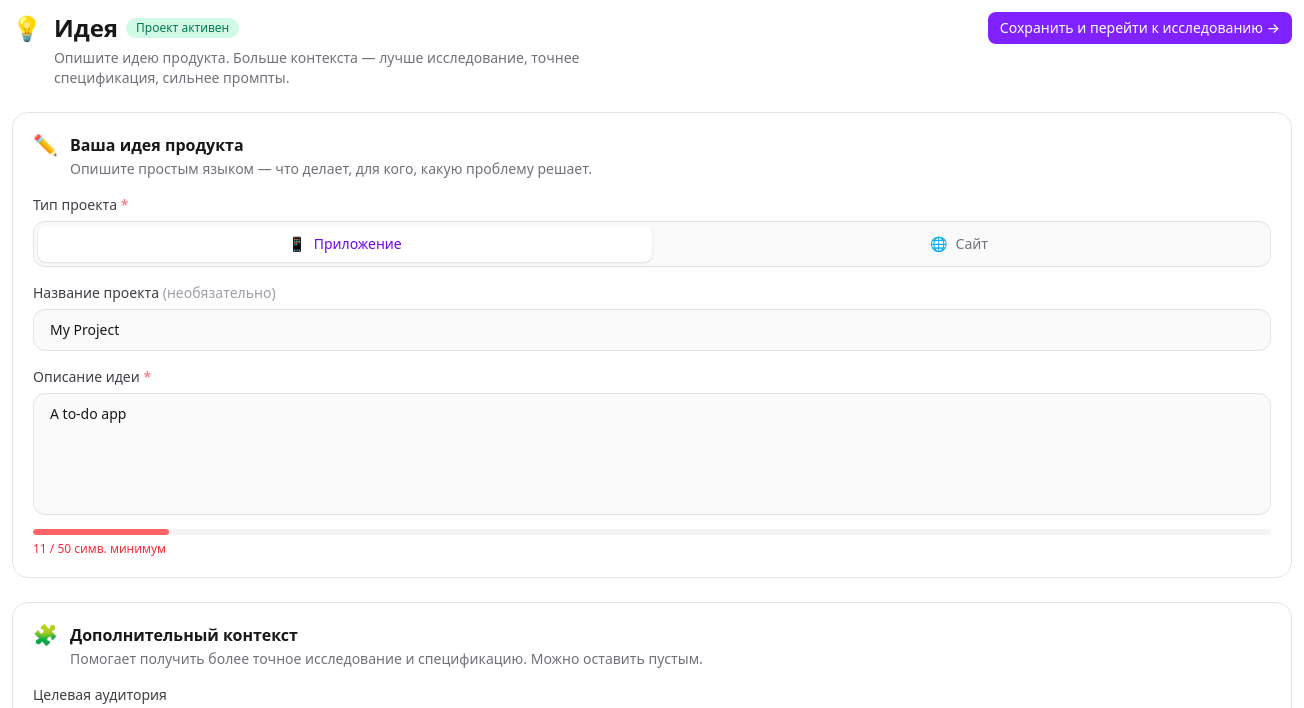
Test: C. Idea blocking — submit triggers validation errors › shows character-length error after clicking continue with a short idea
This screenshot has width=1304, height=708.
Click the button "Сохранить и перейти к исследованию →": (1140, 28) [988,12,1292,44]
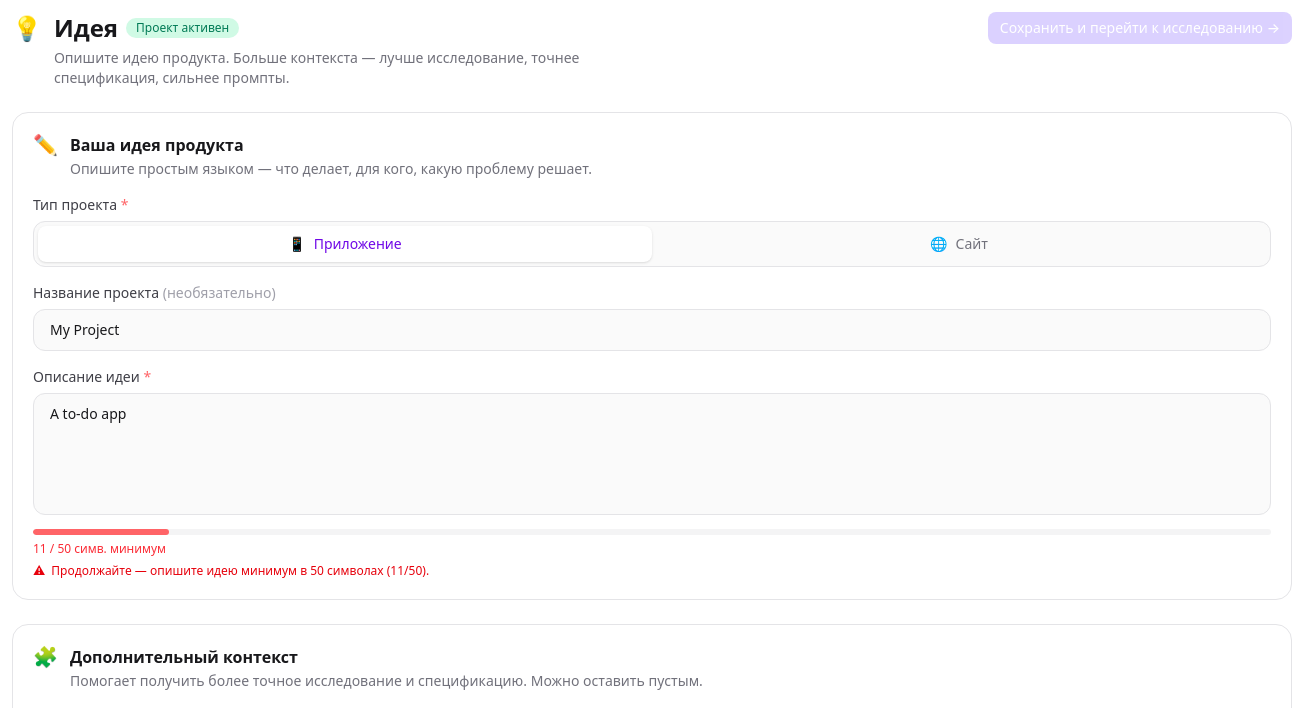
Expected: the text "⚠ Продолжайте — опишите идею минимум в 50 символах (11/50)." is shown, [33,562,429,579]
